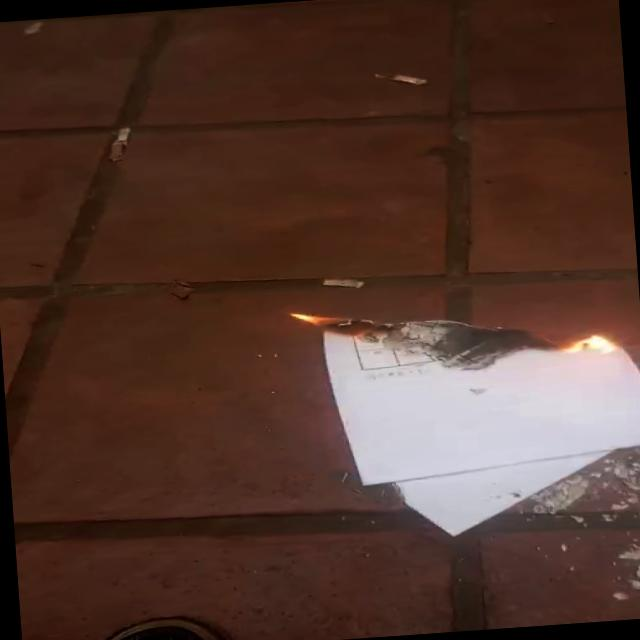Fire_Dangerous: (281, 302, 394, 340), (505, 325, 629, 359)
